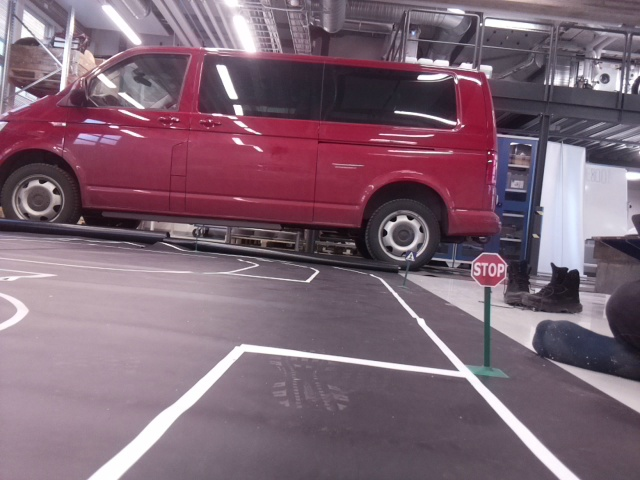Stop: (471, 250, 506, 286)
